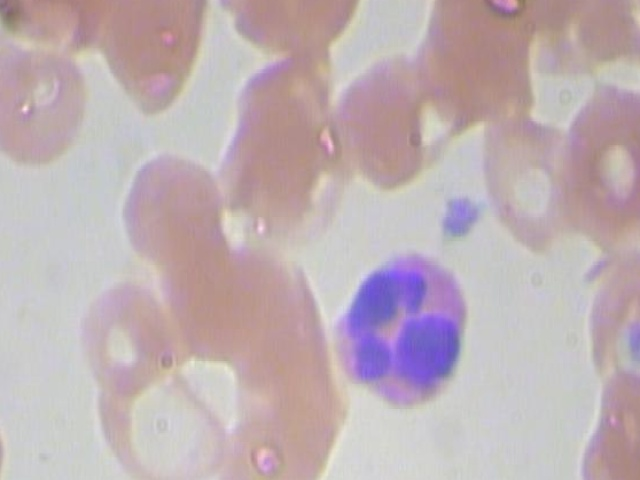Platelets: (434, 183, 495, 253)
RBC: (86, 343, 233, 480), (474, 99, 589, 252), (221, 231, 335, 385), (554, 73, 640, 277), (335, 45, 449, 198), (218, 78, 332, 231), (103, 140, 232, 272), (208, 367, 356, 480), (97, 0, 222, 132), (0, 13, 98, 177), (72, 272, 170, 403), (575, 239, 640, 396), (221, 0, 373, 63), (0, 0, 136, 53), (494, 0, 608, 53), (0, 388, 18, 480), (362, 0, 480, 10)
WBC: (319, 248, 476, 413)
